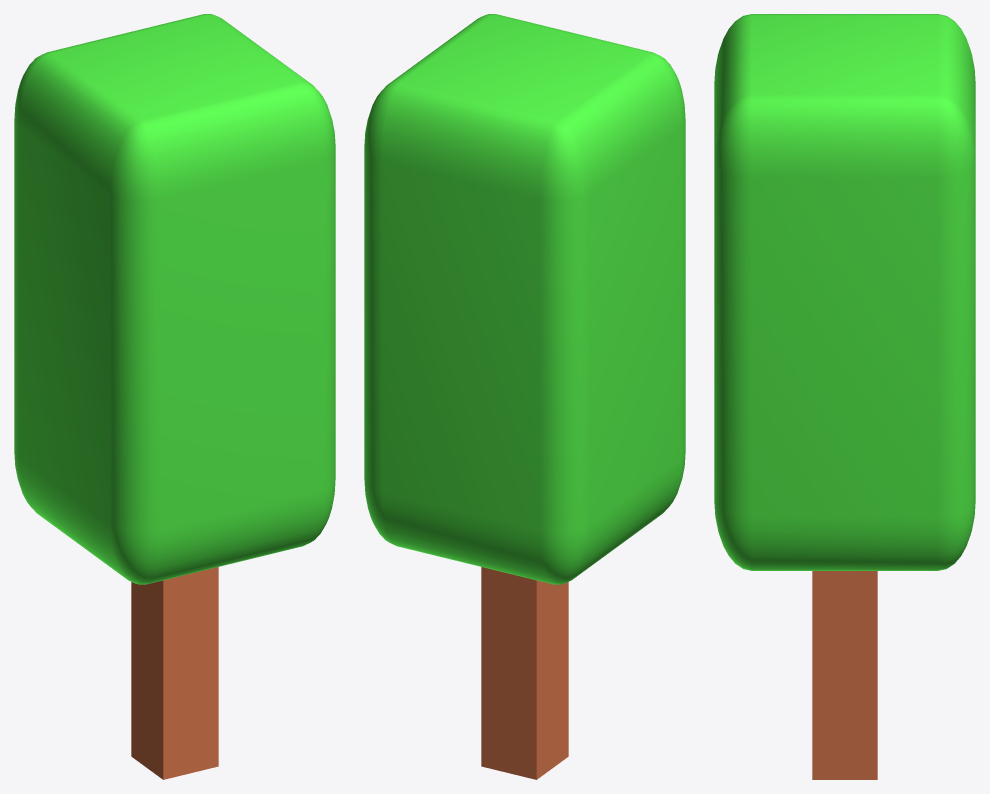
The model's file is Tree.glb.
3 renders of one model, left to right at view 1: azimuth 30°, elevation 25°; view 2: azimuth 150°, elevation 25°; view 3: azimuth 270°, elevation 25°, orthographic. The views are drawn at different scales.
Parts seen in each view (by area): view 1: Cube.001, Cube; view 2: Cube.001, Cube; view 3: Cube.001, Cube.
Part boxes in pixels (box(x1,y1,x2,y2)): Cube.001: box(14, 14, 335, 584); Cube: box(131, 567, 218, 779); Cube.001: box(364, 14, 685, 584); Cube: box(481, 567, 568, 779); Cube.001: box(714, 14, 975, 570); Cube: box(812, 571, 877, 779).
Bounding box in the file's own units: 2 × 6 × 2.
